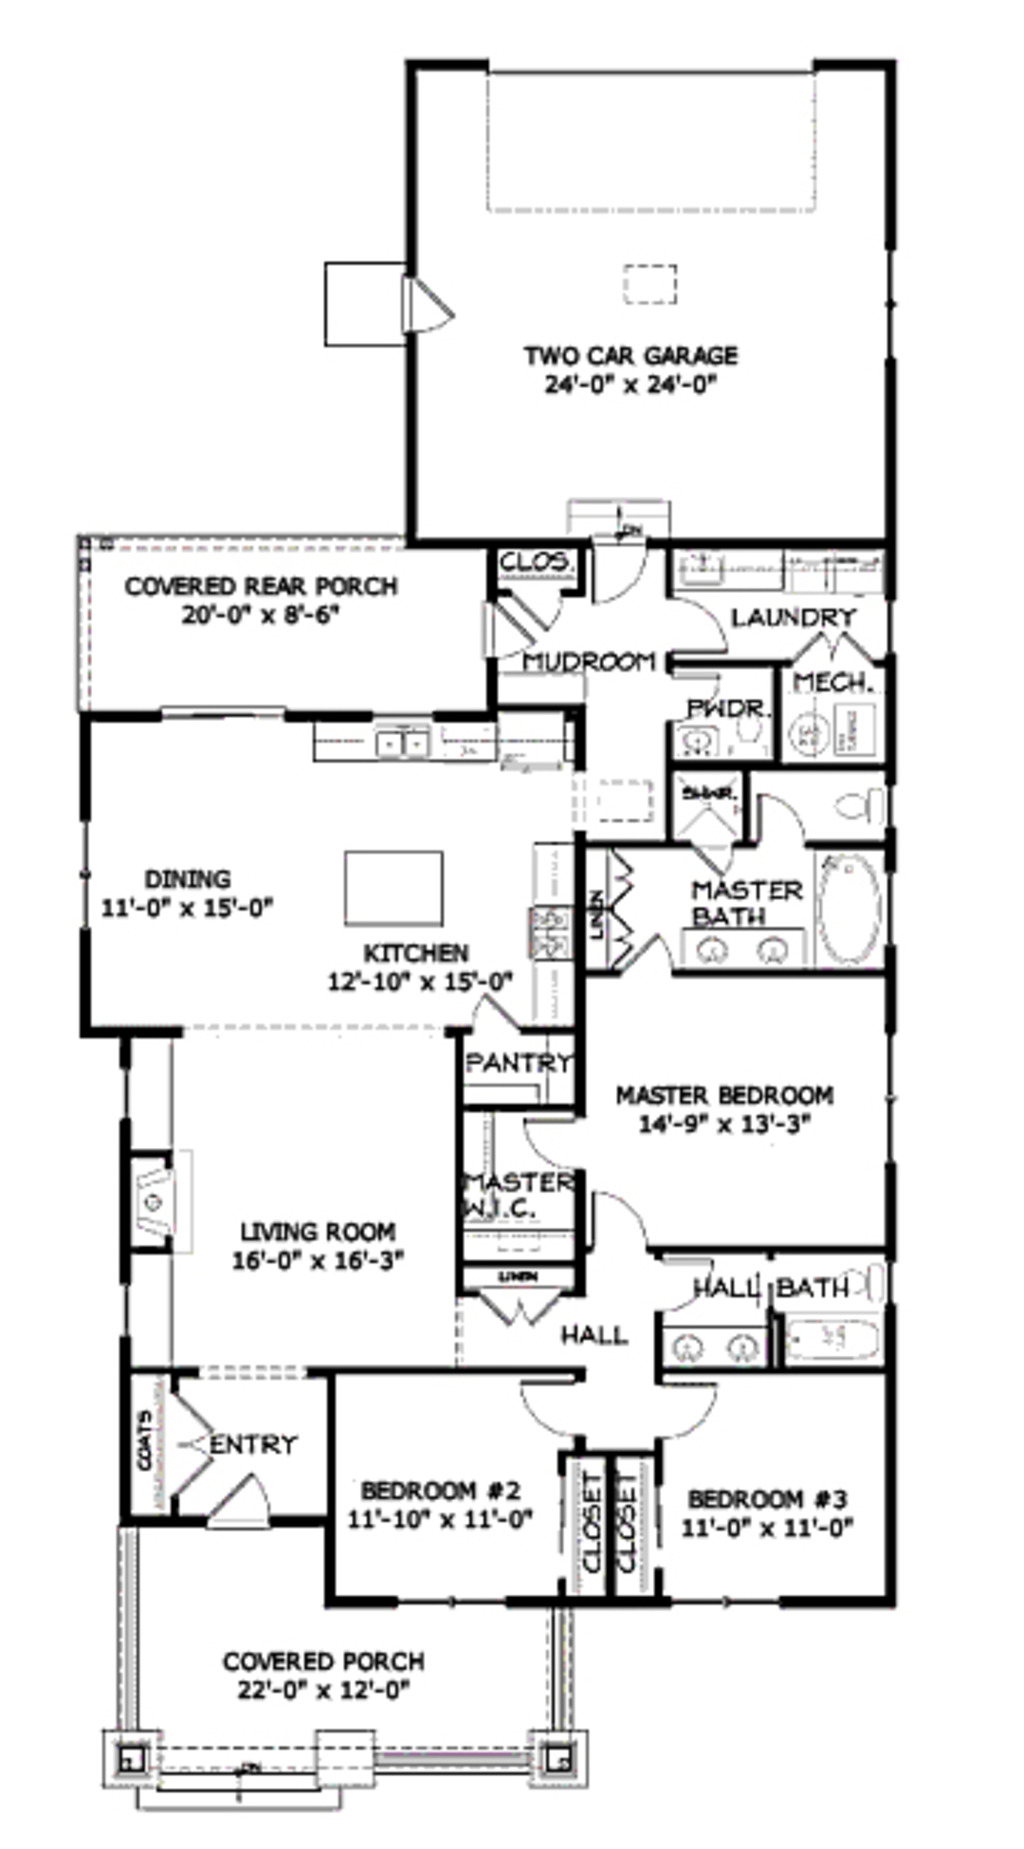door: (802, 839, 913, 977), (504, 1360, 610, 1465), (159, 1362, 228, 1500), (636, 1378, 753, 1457), (206, 1457, 305, 1545), (457, 977, 567, 1047), (382, 245, 459, 343), (509, 1097, 596, 1180), (653, 1234, 733, 1325), (462, 1274, 579, 1333), (579, 1171, 660, 1257), (576, 517, 665, 594), (745, 765, 813, 865), (488, 594, 549, 691), (800, 618, 885, 683), (613, 925, 689, 986), (662, 594, 733, 654), (508, 577, 579, 636)
large_sink: (796, 757, 929, 839)
tub: (784, 1315, 895, 1378)
twin_sink: (348, 705, 450, 785)
